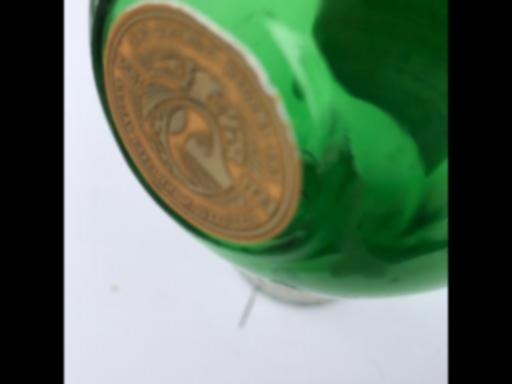alcohol: (87, 0, 447, 307)
glass: (87, 0, 447, 307)
sodocalcique: (87, 0, 447, 307)
